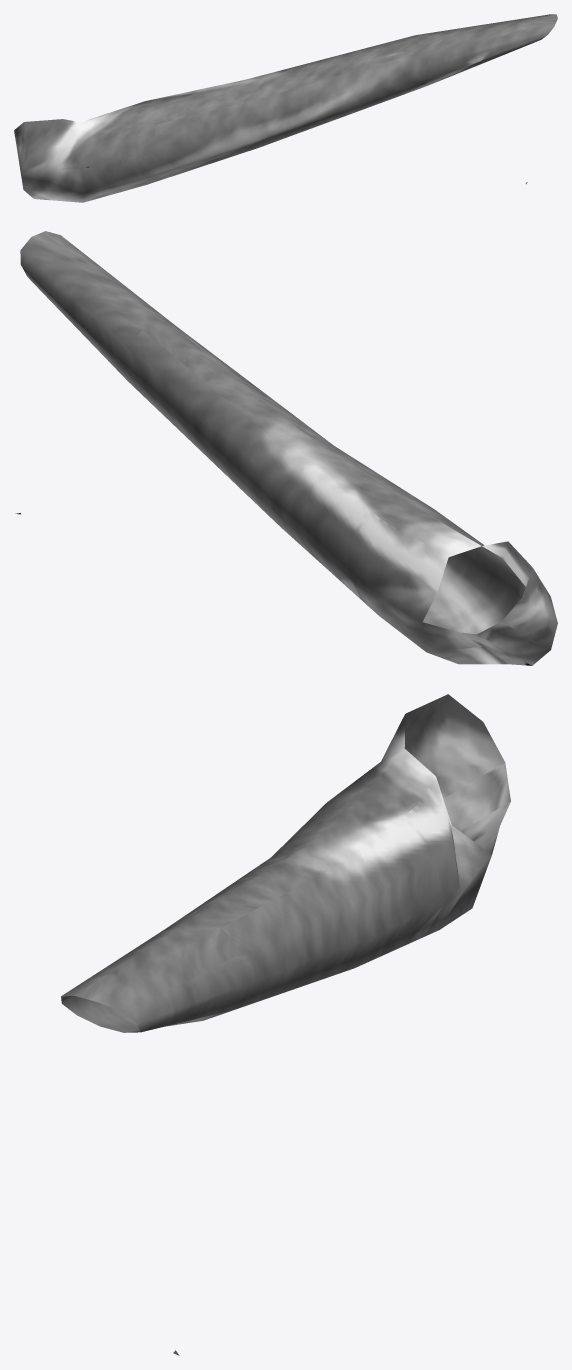
The model's file is righthand2.obj.
The picture shows the model from 3 angles, top to bottom: view 1: azimuth 30°, elevation 25°; view 2: azimuth 150°, elevation 25°; view 3: azimuth 270°, elevation 25°; orthographic projection. The views are drawn at different scales.
Visible parts, largest first — view 1: body; view 2: body; view 3: body.
Boxes of the visible parts, x1=… form: body: x1=14, y1=14, x2=557, y2=202; body: x1=15, y1=231, x2=557, y2=665; body: x1=61, y1=694, x2=510, y2=1355.
Size of the model in its own units: 75.76 by 28.9 by 32.35.
Materials: 1 (1 with a texture image).
